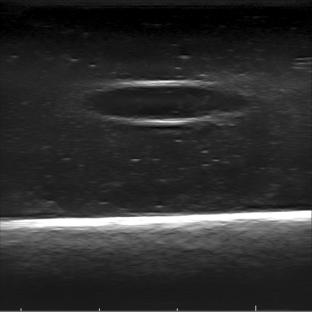vessel: (87, 80, 248, 126)
